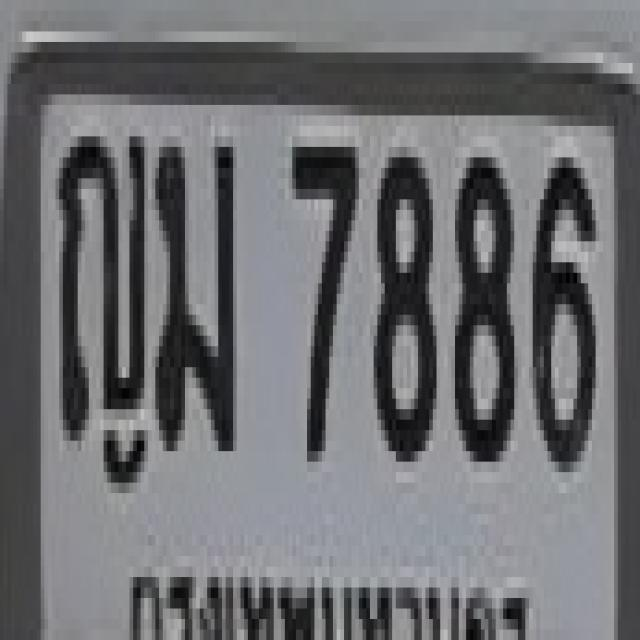-: (56, 126, 144, 441), (152, 126, 233, 441)
6: (529, 147, 592, 462)
7: (289, 136, 355, 452)
8: (370, 136, 433, 452), (452, 147, 511, 451)
